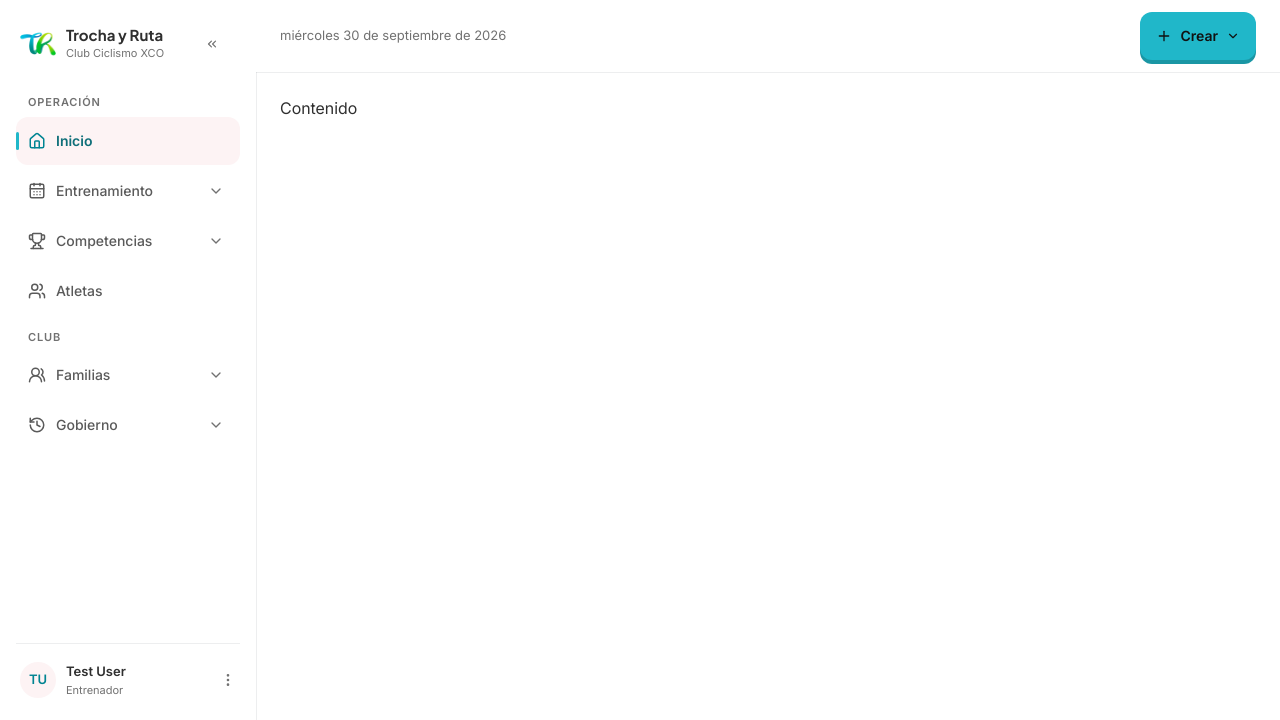
Test: AppShell › shell rediseñado (feature 035) › coach: el item 'Atajos de teclado' del menú de usuario abre ese mismo diálogo del shell
The width and height of the screenshot is (1280, 720).
Step 1. Click the button with test id "user-menu-trigger" → coordinates (128, 680), box [16,656,240,704]
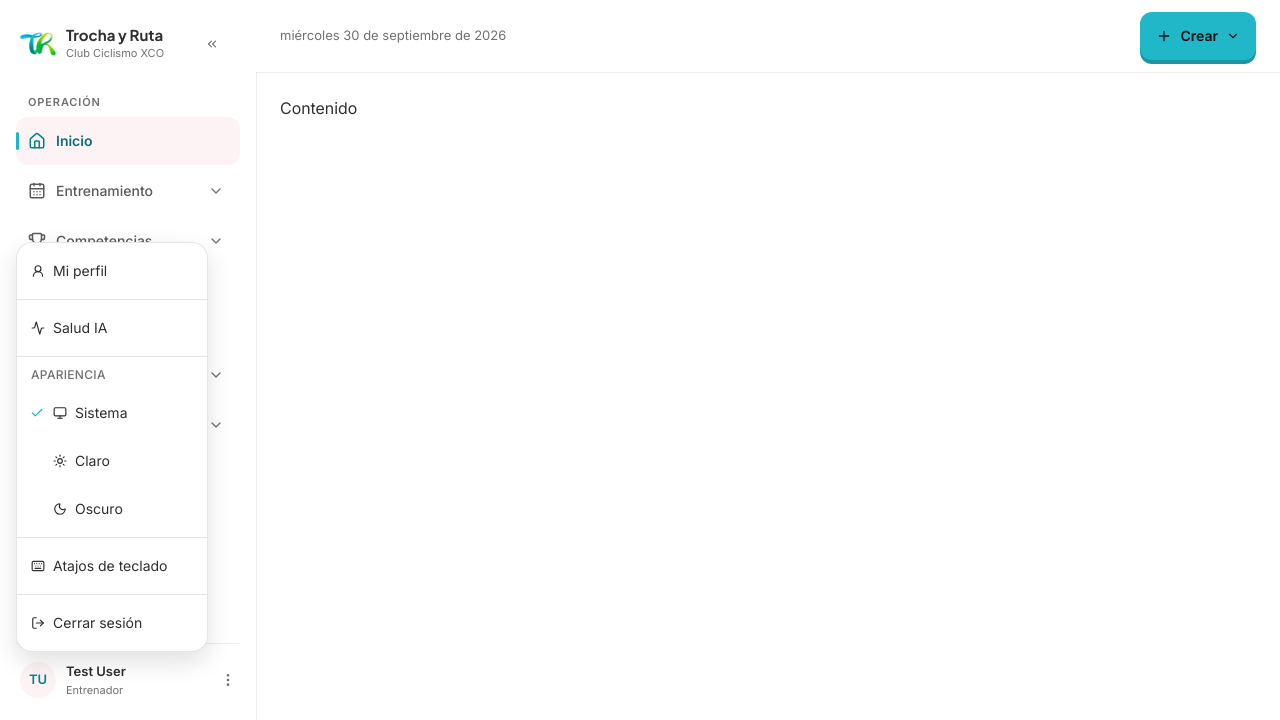
Step 2. Click the menu item with test id "user-menu-shortcuts-help" → coordinates (99, 566), box [31,557,168,574]
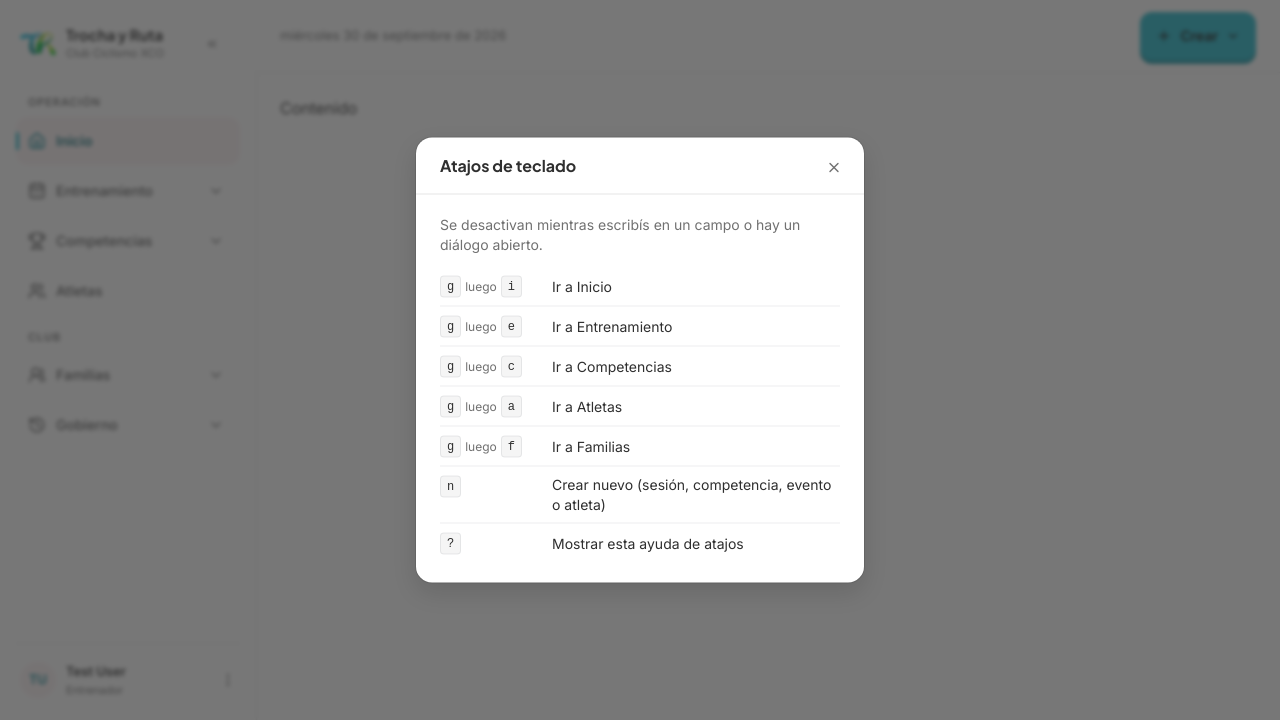
Now the number of dialogs with test id "keyboard-shortcuts-dialog" is 1, box [416,138,864,582]
